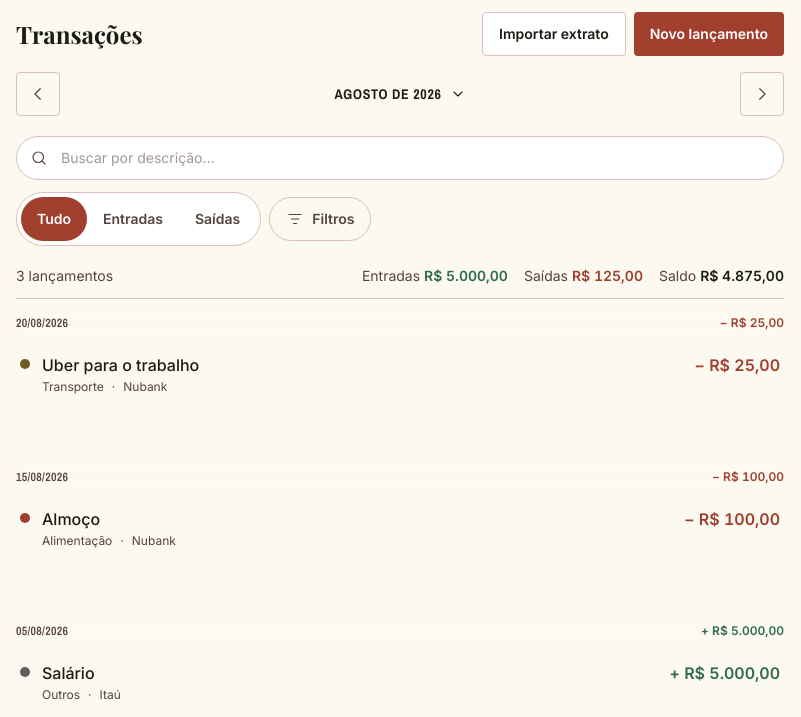
filtros da lista (FR-005) › filtra por tipo no controle segmentado
Expected: the text "Almoço" is shown, [42,509,100,529]
Click the radio button labelled "Entradas".
click(133, 219)  # box [87,197,179,241]
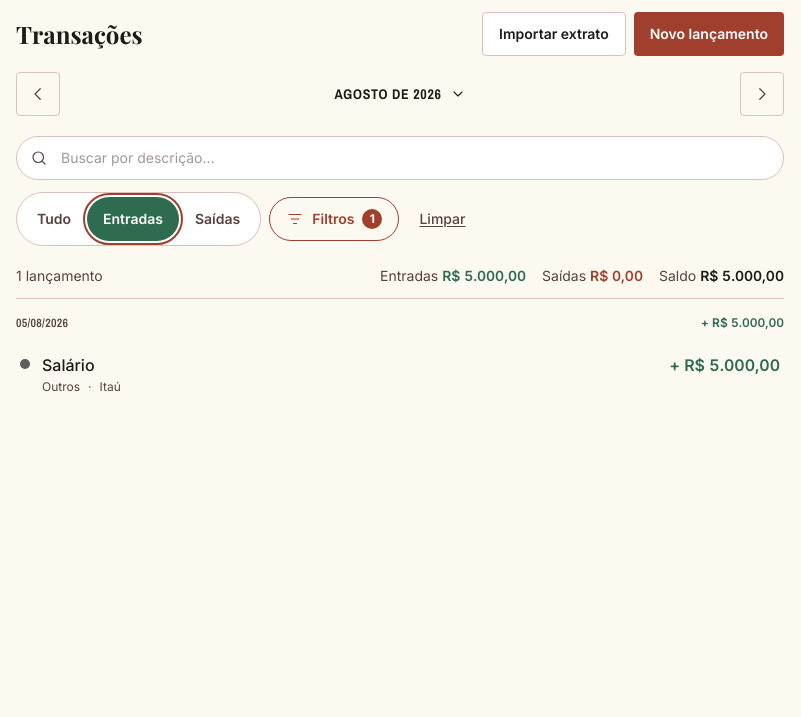
Expected: the text "Salário" is shown, [42,355,95,375]
Expected: the text "Almoço" is gone
Expected: the text "1 lançamento" is shown, [16,266,103,286]
